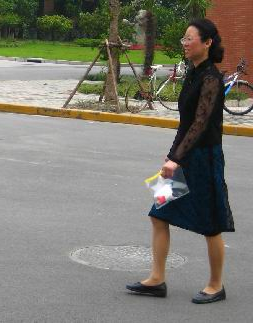pedestrian: (127, 18, 234, 304)
